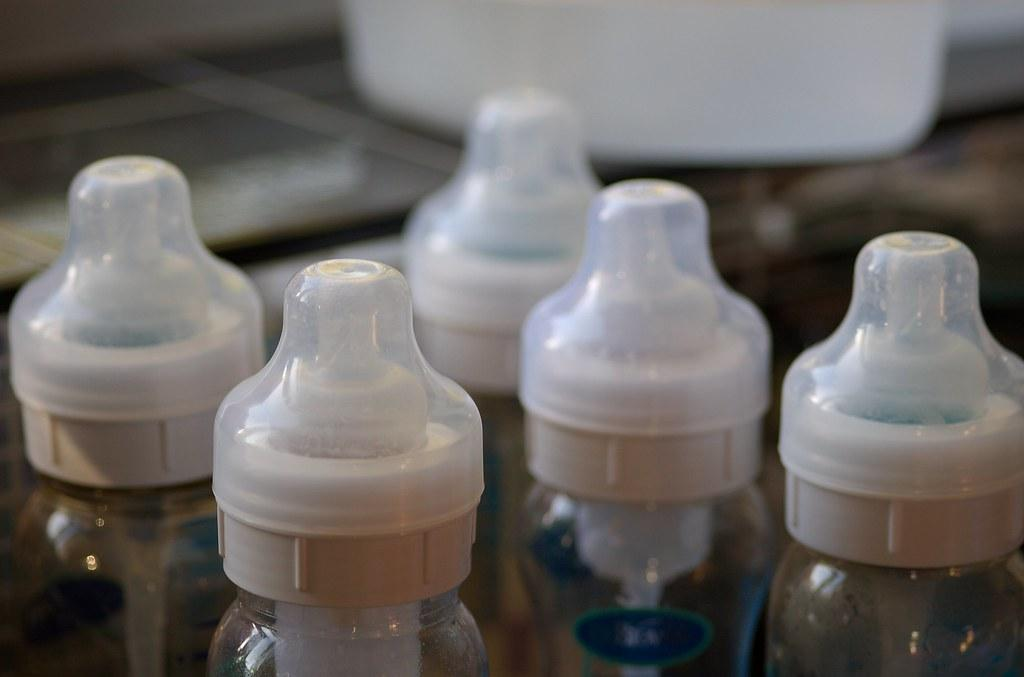bottle: (6, 154, 265, 677), (515, 178, 777, 677), (401, 87, 606, 676), (206, 258, 490, 677), (765, 230, 1024, 676)
